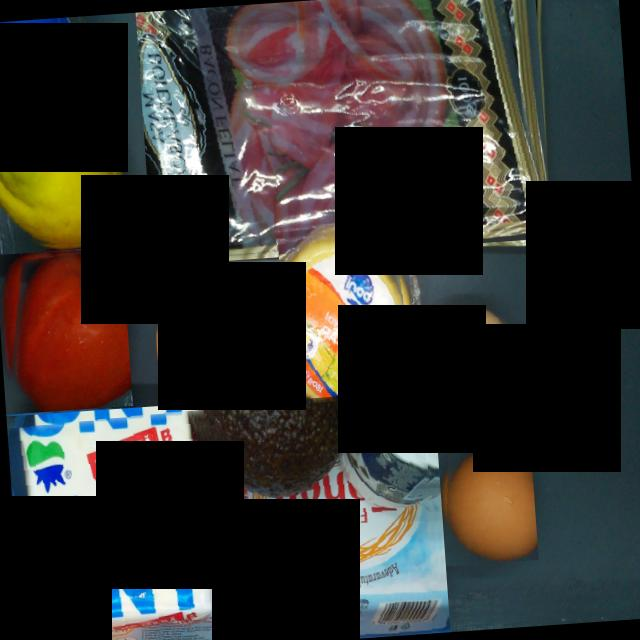avocado: (83, 557, 250, 640)
bacon: (135, 0, 552, 265)
butter: (240, 413, 425, 640)
cheese: (276, 220, 418, 406)
eggs: (6, 386, 450, 640), (406, 304, 517, 416), (438, 442, 538, 566), (153, 292, 265, 398)
lemon: (0, 87, 126, 252)
tomatoes: (0, 246, 132, 414)
yogurt: (0, 15, 102, 104), (15, 541, 93, 640)
